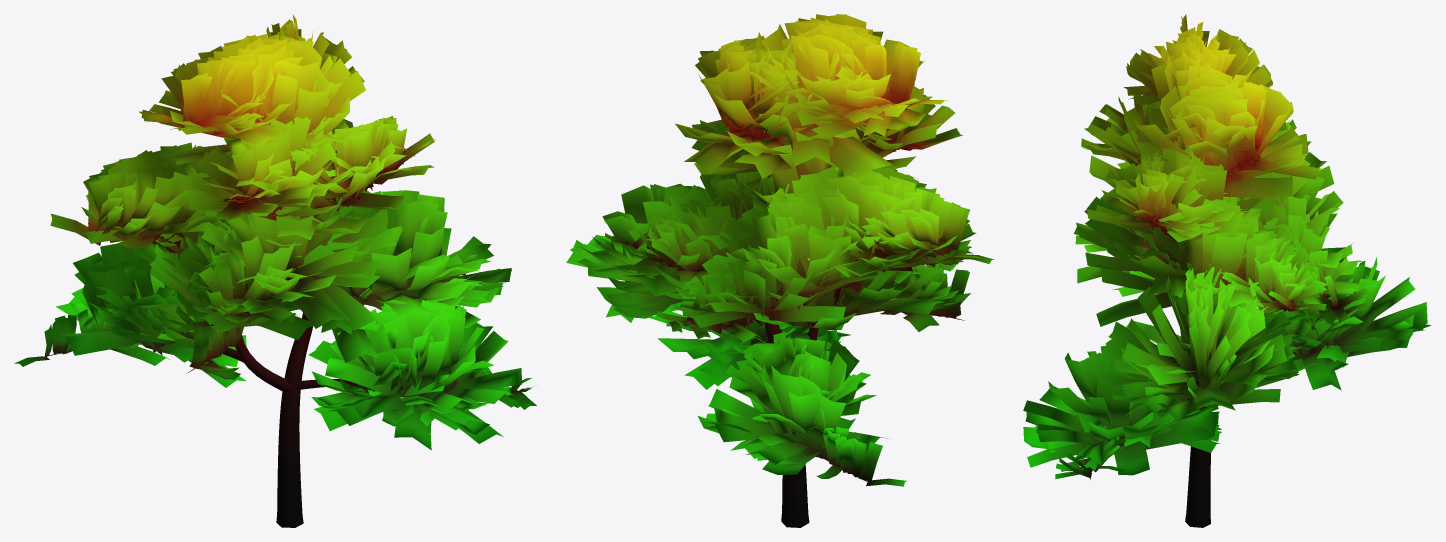
The model's file is SM_Tree_Large_v1.fbx.
The picture shows the model from 3 angles, left to right: view 1: azimuth 30°, elevation 25°; view 2: azimuth 150°, elevation 25°; view 3: azimuth 270°, elevation 25°; orthographic projection. The views are drawn at different scales.
Visible parts, largest first — view 1: SM_Tree_Large_v1; view 2: SM_Tree_Large_v1; view 3: SM_Tree_Large_v1.
Boxes of the visible parts, x1,y1,x2,y2 form: SM_Tree_Large_v1: (14,14,536,527); SM_Tree_Large_v1: (566,14,993,527); SM_Tree_Large_v1: (1023,14,1430,527).
Bounding box in the file's own units: 13.32 × 14.82 × 11.69.
